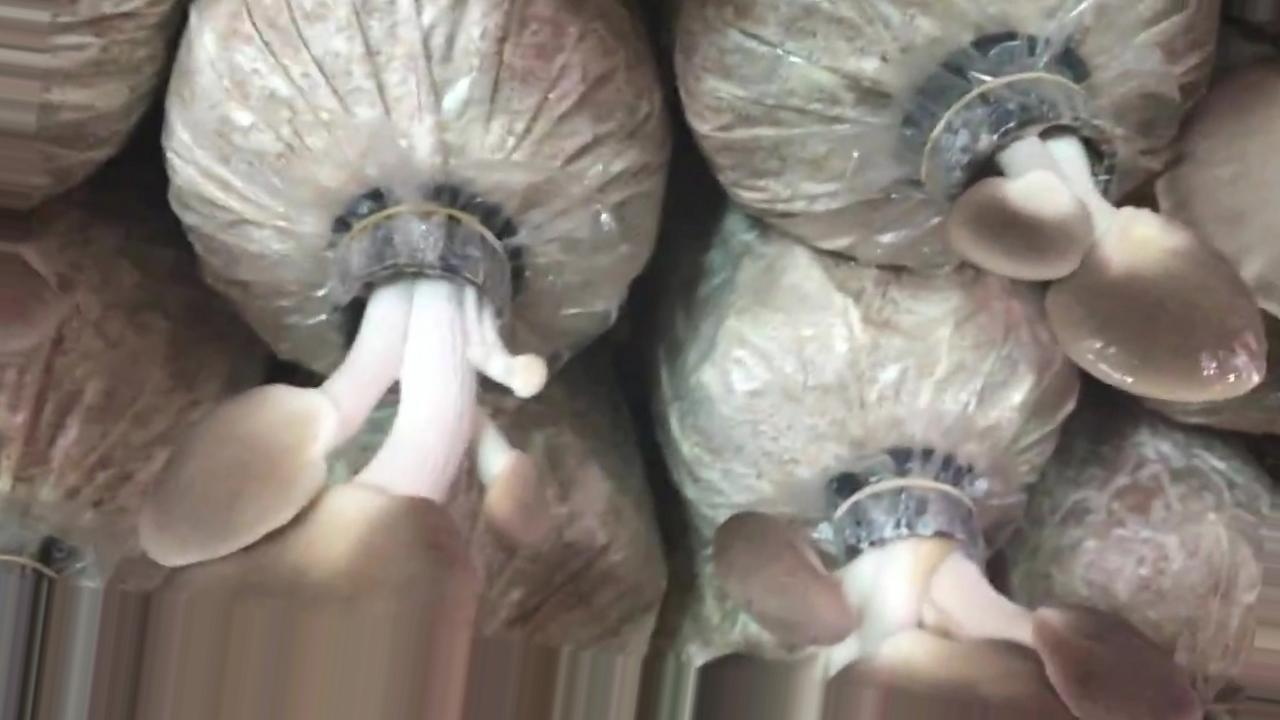nam: (139, 209, 556, 720), (927, 60, 1270, 410), (695, 485, 1198, 720)
